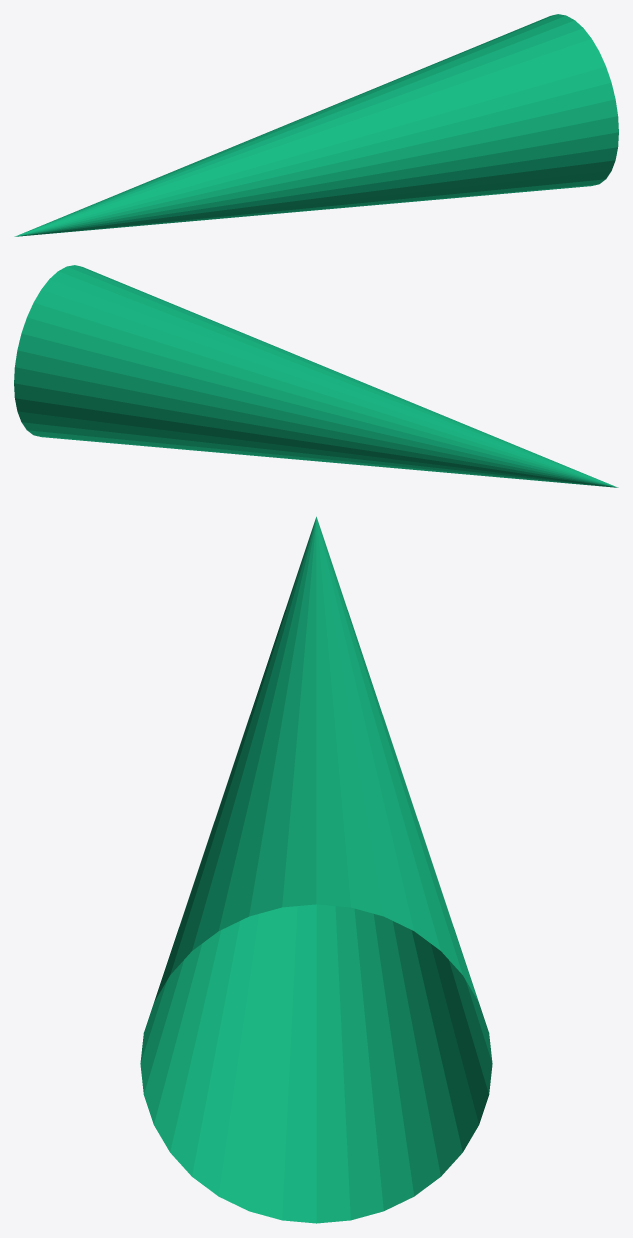
Rendered from 13_Small Solid angle in cone.glb.
The picture shows the model from 3 angles, top to bottom: view 1: azimuth 30°, elevation 25°; view 2: azimuth 150°, elevation 25°; view 3: azimuth 270°, elevation 25°; orthographic projection. The views are drawn at different scales.
Visible parts, largest first — view 1: Cone; view 2: Cone; view 3: Cone.
Boxes of the visible parts, left/top/right/bottom form: Cone: left=14, top=14, right=618, bottom=236; Cone: left=14, top=265, right=618, bottom=487; Cone: left=140, top=516, right=492, bottom=1223.
Size of the model in its own units: 3.68 by 1 by 1.
